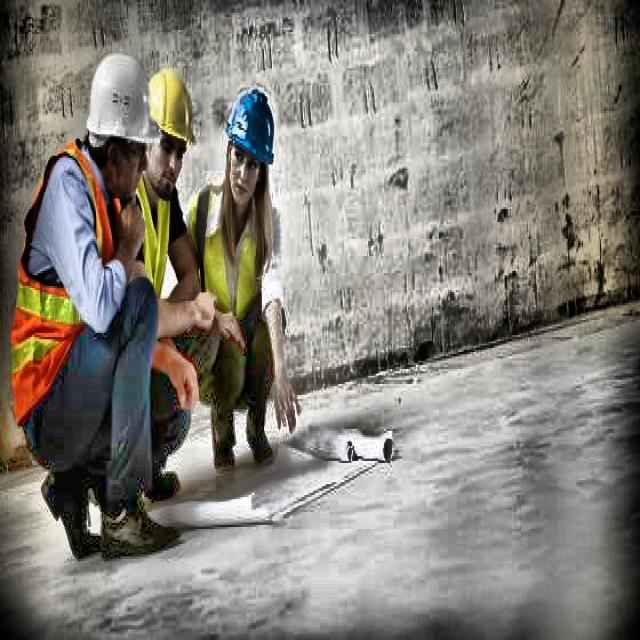helmet: (83, 49, 159, 196), (140, 68, 199, 198), (225, 86, 273, 200)
